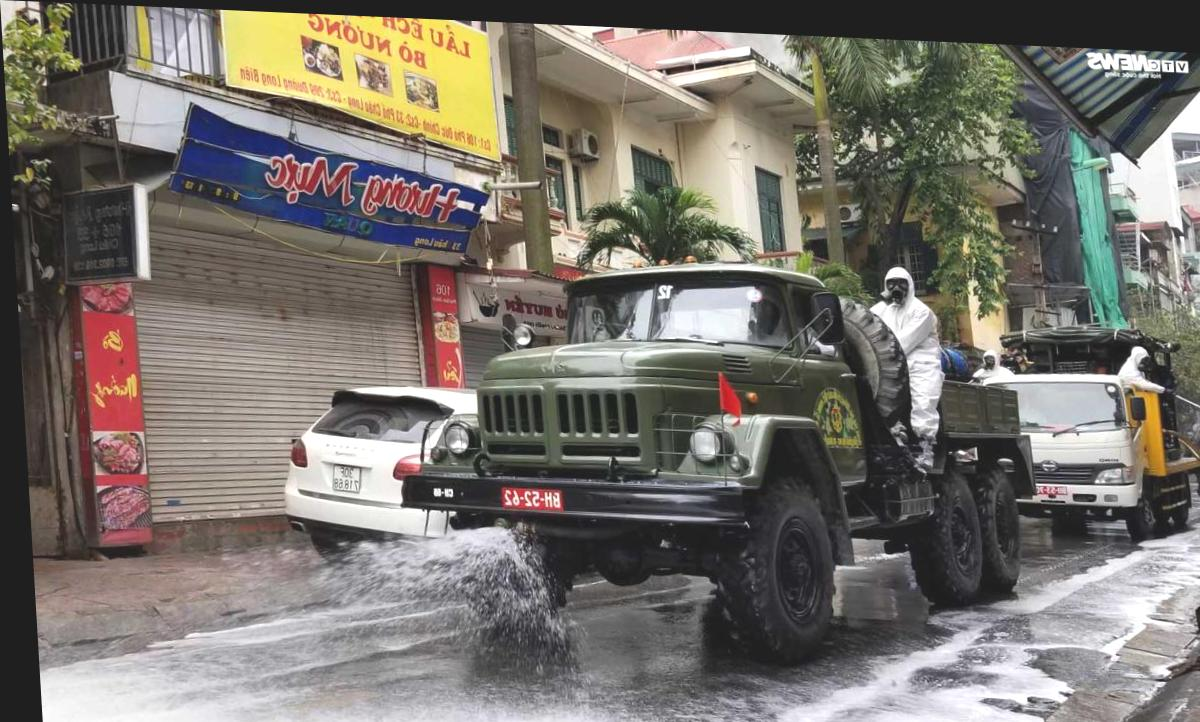License_Plate: (497, 485, 567, 514), (329, 462, 366, 498), (1028, 481, 1067, 500)
